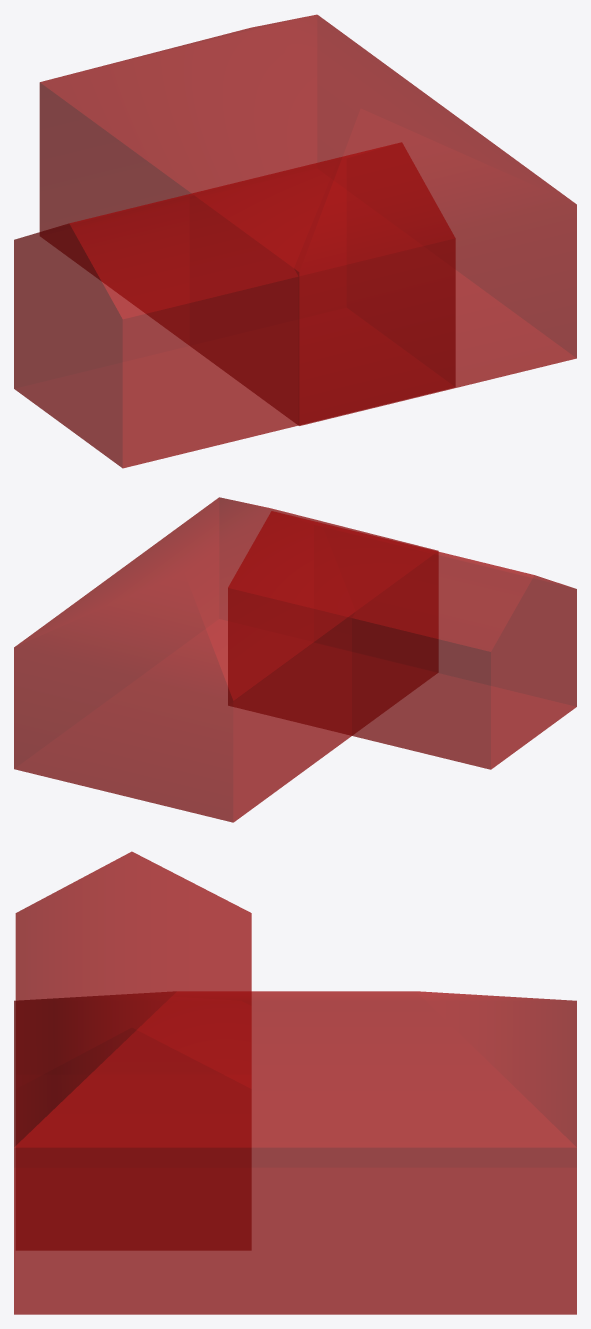
Rendered from SM_Bld_House_Preset_04_COLLISION.fbx.
3 renders of one model, top to bottom at view 1: azimuth 30°, elevation 25°; view 2: azimuth 150°, elevation 25°; view 3: azimuth 270°, elevation 25°, orthographic. The views are drawn at different scales.
Parts seen in each view (by area): view 1: SM_Bld_House_Preset_04_COLLISION; view 2: SM_Bld_House_Preset_04_COLLISION; view 3: SM_Bld_House_Preset_04_COLLISION.
Part boxes in pixels (bbox=[...]): SM_Bld_House_Preset_04_COLLISION: bbox=[14, 14, 576, 468]; SM_Bld_House_Preset_04_COLLISION: bbox=[14, 497, 576, 822]; SM_Bld_House_Preset_04_COLLISION: bbox=[14, 851, 576, 1314].
Bounding box in the file's own units: 1303 × 630 × 1292.
